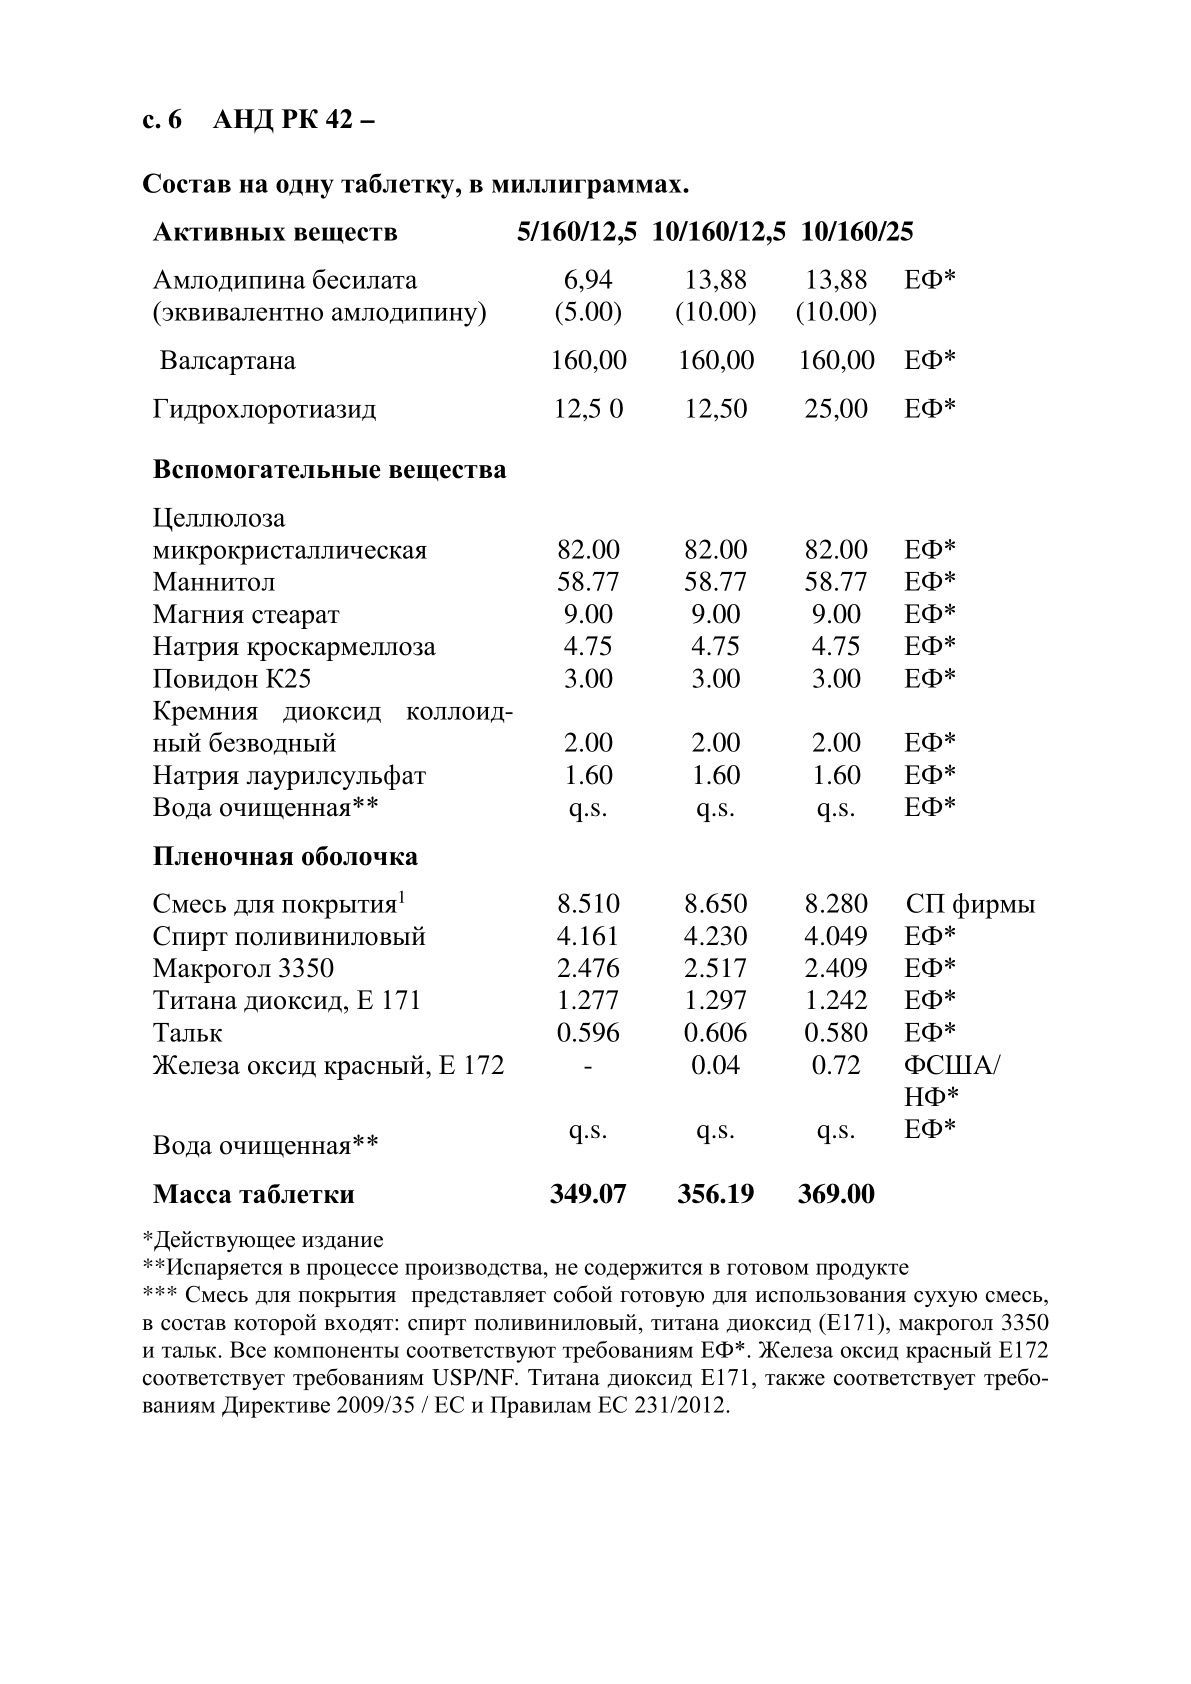nolines: (148, 216, 1040, 1207)
